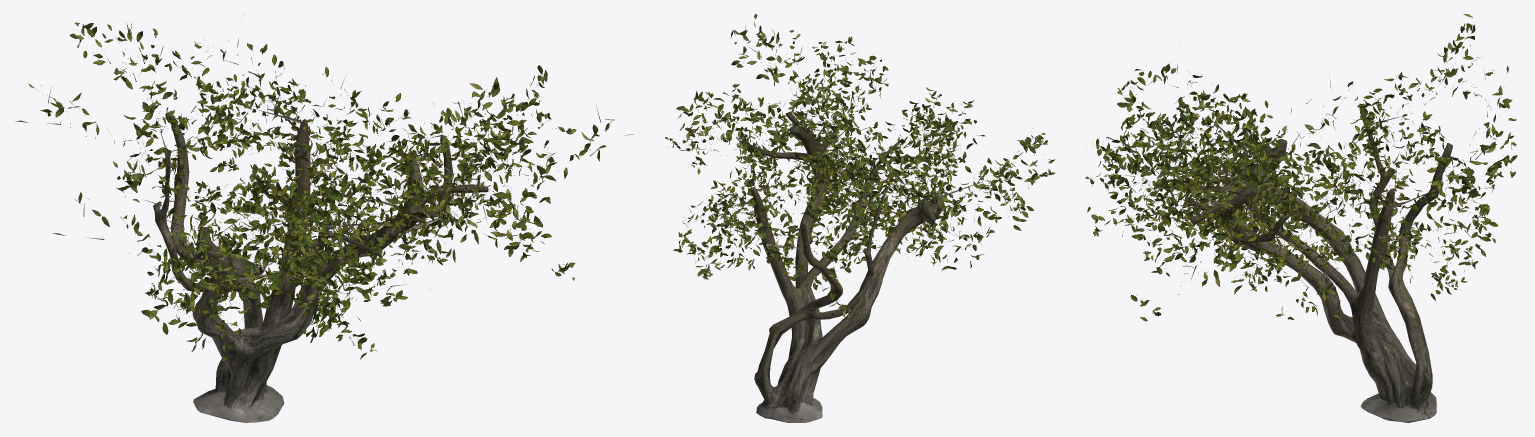
The model's file is island_tree_02.glb.
The picture shows the model from 3 angles, left to right: view 1: azimuth 30°, elevation 25°; view 2: azimuth 150°, elevation 25°; view 3: azimuth 270°, elevation 25°; orthographic projection. The views are drawn at different scales.
Parts seen in each view (by area): view 1: island_tree_02_LOD0; view 2: island_tree_02_LOD0; view 3: island_tree_02_LOD0.
Boxes of the visible parts, <box> form: island_tree_02_LOD0: <box>15,14,633,422</box>; island_tree_02_LOD0: <box>665,14,1055,422</box>; island_tree_02_LOD0: <box>1085,14,1517,422</box>.
Size of the model in its own units: 4.21 by 3.39 by 3.98.
Materials: 3 (3 with a texture image).
